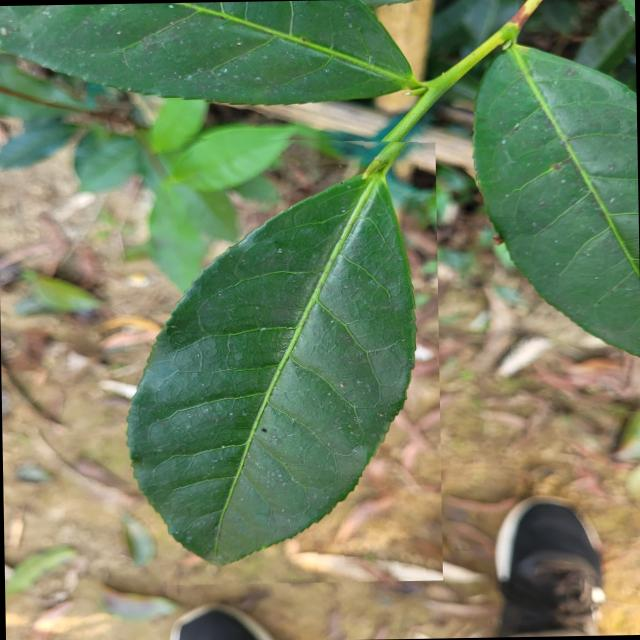Category D(7+ days, Not for Tea): (106, 130, 442, 586)
